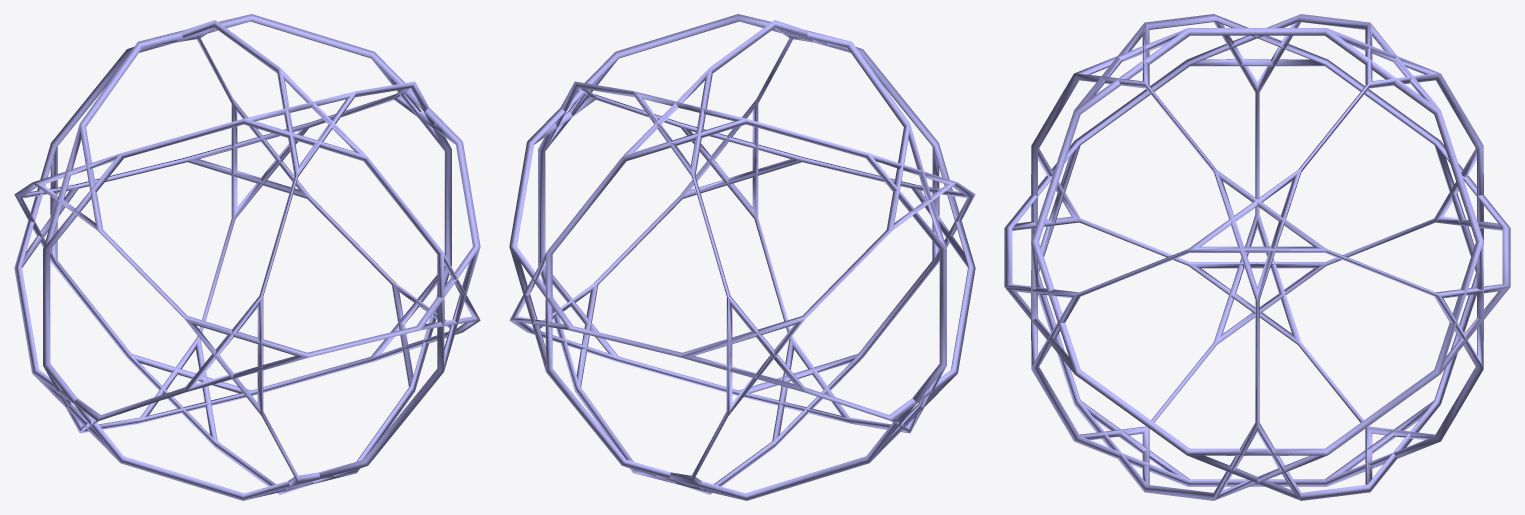
The model's file is TruncatedGreatDodecahedron2.glb.
3 views of the same model, side by side, from view 1: azimuth 30°, elevation 25°; view 2: azimuth 150°, elevation 25°; view 3: azimuth 270°, elevation 25° (orthographic). The views are drawn at different scales.
Parts seen in each view (by area): view 1: TruncatedGreatDodecahedron; view 2: TruncatedGreatDodecahedron; view 3: TruncatedGreatDodecahedron.
Part boxes in pixels (x1,y1,x2,y2): TruncatedGreatDodecahedron: [14, 14, 480, 500]; TruncatedGreatDodecahedron: [509, 14, 975, 500]; TruncatedGreatDodecahedron: [1004, 14, 1510, 500].
Bounding box in the file's own units: 3.68 × 3.68 × 3.68.
